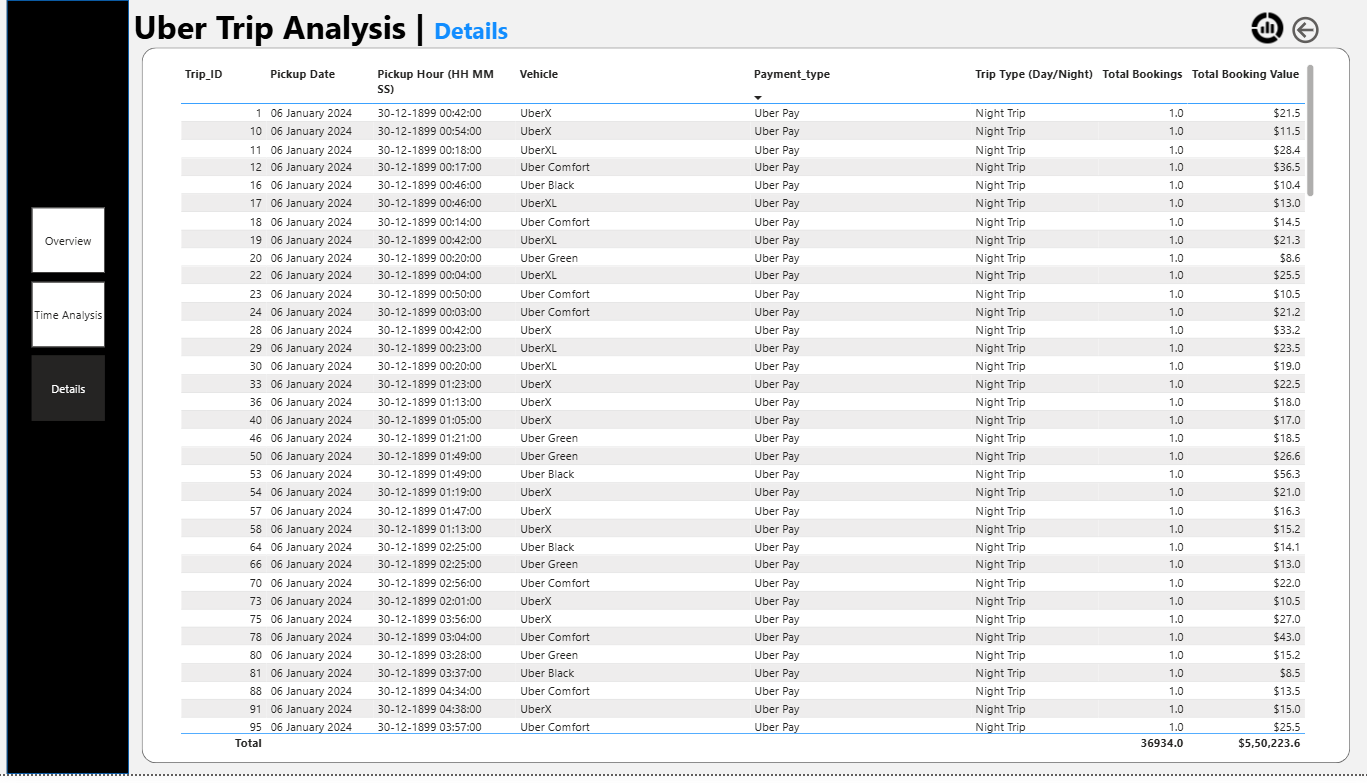

The page's visual inventory and layout, read from the dashboard file:
{"tool":"powerbi","page":{"name":"Details","canvas":[1600,900],"ordinal":2},"visuals":[{"type":"shape","box":[10.3,0,142,900],"z":0},{"type":"textbox","box":[152.2,0,773.9,69.6],"z":1000},{"type":"shape","box":[167.8,55.9,1405.1,832.2],"z":2000},{"type":"tableEx","fields":{"Values":["Trips.Trip_ID","Trips.Pickup Date","Trips.Pickup Hour (HH MM SS)","Trips.Vehicle","Trips.Payment_type","Trips.Trip Type (Day/Night)","Trips.Total Bookings","Trips.Total Booking Value"]},"box":[206.8,69.5,1328.8,808.5],"z":3000},{"type":"actionButton","box":[1500,15.3,100,40.7],"z":4000},{"type":"image","box":[1378.7,14.9,193.6,36.2],"z":5000},{"type":"pageNavigator","box":[38.6,241.4,85.7,248.6],"z":6000}]}

Visuals, with their boxes on the page's 1600x900 design canvas (x1, y1, x2, y2). These are canvas units, not pixel positions in the 1367x783 screenshot, which may show the page scaled, cropped or inside an application window:
shape: (left=10, top=0, right=152, bottom=900)
textbox: (left=152, top=0, right=926, bottom=70)
shape: (left=168, top=56, right=1573, bottom=888)
tableEx - Trips.Trip_ID x Trips.Pickup Date: (left=207, top=70, right=1536, bottom=878)
actionButton: (left=1500, top=15, right=1600, bottom=56)
image: (left=1379, top=15, right=1572, bottom=51)
pageNavigator: (left=39, top=241, right=124, bottom=490)
